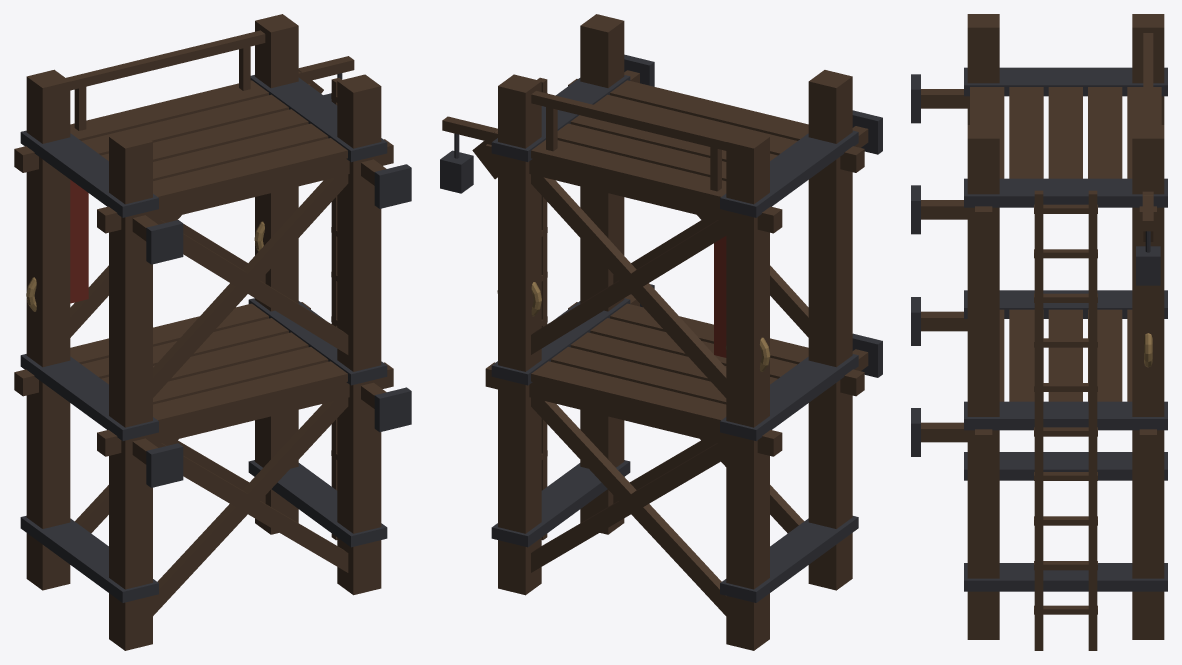
Rendered from team_tether_scaffold_tower.glb.
The picture shows the model from 3 angles, left to right: view 1: azimuth 30°, elevation 25°; view 2: azimuth 150°, elevation 25°; view 3: azimuth 270°, elevation 25°; orthographic projection.
Parts seen in each view (by area): view 1: Upright, Upright.001, Upright.002, Upright.003, Brace_1, Brace_0, Plank_0_0, Plank_1_0, Ledger, Ledger.002, Strap, Strap.004 (+27 smaller); view 2: Upright.001, Upright, Upright.003, Upright.002, Brace_1.002, Brace_0.002, Plank_0_4, Plank_1_4, Brace_1.003, Ledger.001, Ledger.003, Brace_0.003 (+26 smaller); view 3: Upright.002, Upright.003, LadderRail, LadderRail.001, Strap.005, Strap.003, Strap.001, Strap.004, Strap, Plank_1_1, Plank_1_2, Plank_1_3 (+34 smaller).
Boxes of the visible parts, x1,y1,x2,y2 form: Upright: [109, 130, 152, 650]; Upright.001: [26, 69, 70, 590]; Upright.002: [337, 74, 381, 595]; Upright.003: [255, 14, 298, 534]; Brace_1: [153, 174, 348, 397]; Brace_0: [153, 397, 348, 615]; Plank_0_0: [153, 361, 347, 427]; Plank_1_0: [153, 138, 347, 204]; Ledger: [97, 362, 393, 456]; Ledger.002: [97, 139, 393, 233]; Strap: [20, 515, 158, 602]; Strap.004: [20, 130, 158, 217]; Upright.001: [726, 130, 769, 650]; Upright: [808, 70, 852, 590]; Upright.003: [498, 74, 541, 595]; Upright.002: [580, 14, 624, 534]; Brace_1.002: [531, 174, 726, 397]; Brace_0.002: [531, 397, 726, 615]; Plank_0_4: [531, 361, 726, 427]; Plank_1_4: [531, 140, 726, 204]; Brace_1.003: [531, 220, 726, 354]; Ledger.001: [485, 362, 782, 456]; Ledger.003: [485, 144, 782, 233]; Brace_0.003: [531, 443, 726, 572]; Upright.002: [967, 125, 999, 639]; Upright.003: [1132, 125, 1164, 639]; LadderRail: [1034, 190, 1043, 650]; LadderRail.001: [1088, 190, 1097, 650]; Strap.005: [964, 178, 1167, 207]; Strap.003: [964, 401, 1167, 430]; Strap.001: [964, 563, 1167, 591]; Strap.004: [964, 67, 1167, 96]; Strap: [964, 452, 1167, 480]; Plank_1_1: [1009, 87, 1043, 178]; Plank_1_2: [1048, 87, 1082, 178]; Plank_1_3: [1088, 87, 1122, 178].
Size of the model in its own units: 3.12 by 4.5 by 2.09.
